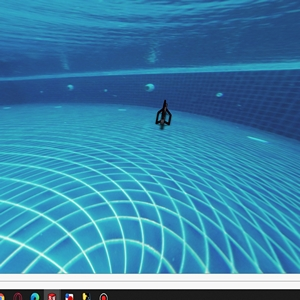submarine: (154, 97, 171, 134)
